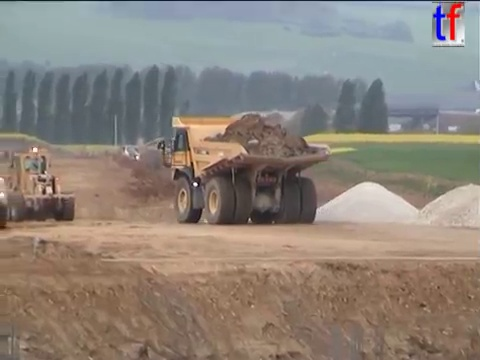motor grader: (1, 143, 78, 223)
truck: (155, 113, 333, 227), (1, 174, 9, 231)
